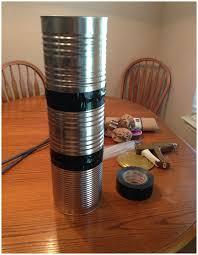Tin: (31, 4, 104, 212)
